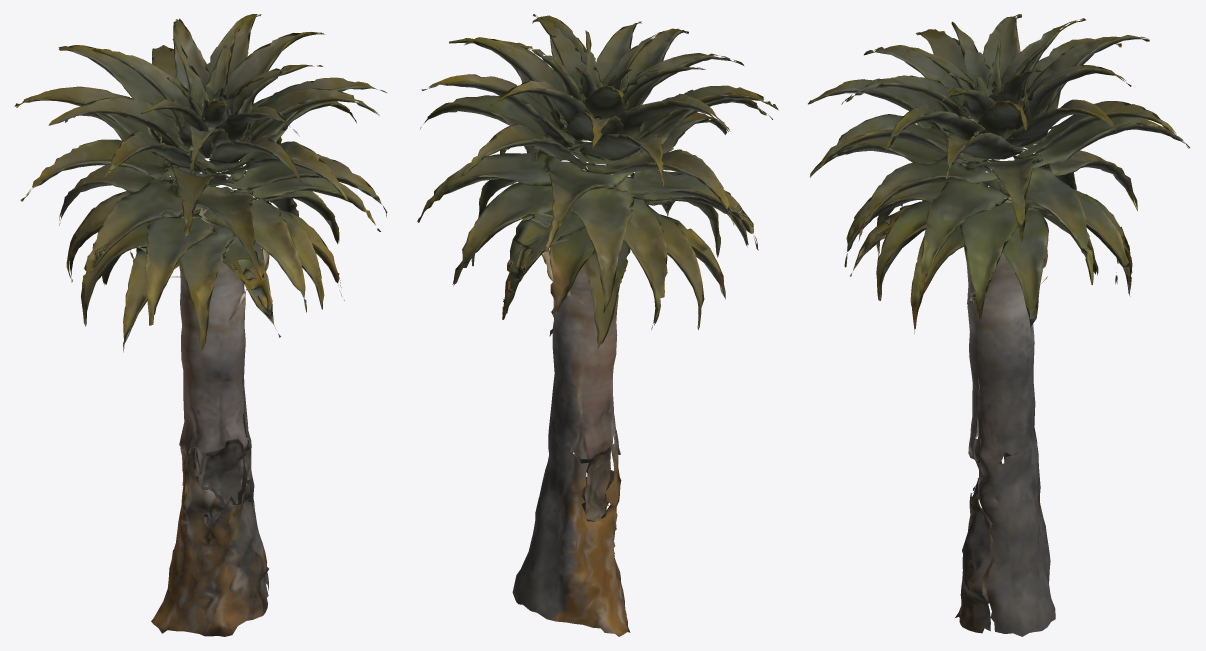
File: quiver-tree-02.glb
3 views of the same model, side by side, from view 1: azimuth 30°, elevation 25°; view 2: azimuth 150°, elevation 25°; view 3: azimuth 270°, elevation 25° (orthographic).
Visible parts, largest first — view 1: quiver_tree_02; view 2: quiver_tree_02; view 3: quiver_tree_02.
Part boxes in pixels (<box>): quiver_tree_02: <box>14,14,387,636</box>; quiver_tree_02: <box>417,14,778,636</box>; quiver_tree_02: <box>808,14,1189,636</box>.
Bounding box in the file's own units: 0.8674 × 1.47 × 0.8795.
1 material, 1 textured.
